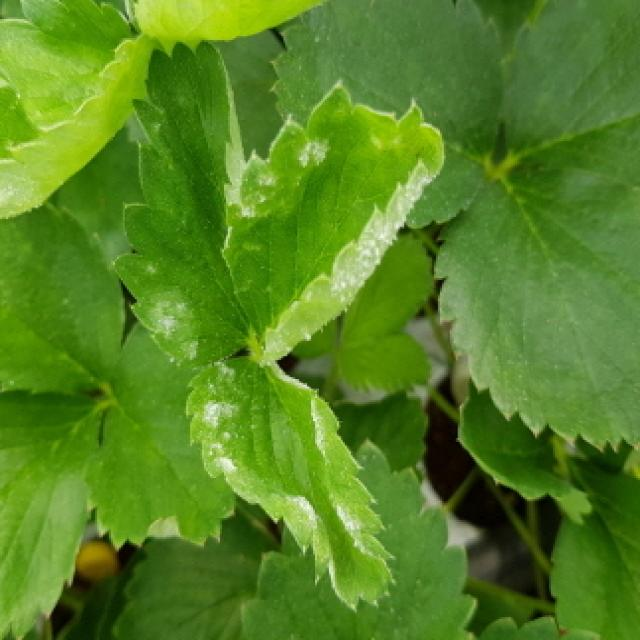Powdery Mildew Leaf: (218, 78, 446, 368), (184, 357, 399, 615), (111, 41, 255, 368), (0, 0, 150, 219), (126, 0, 333, 61)
